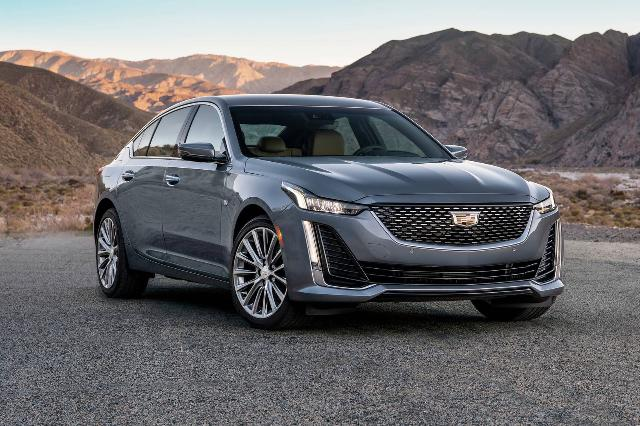cadillac: (92, 93, 564, 327)
